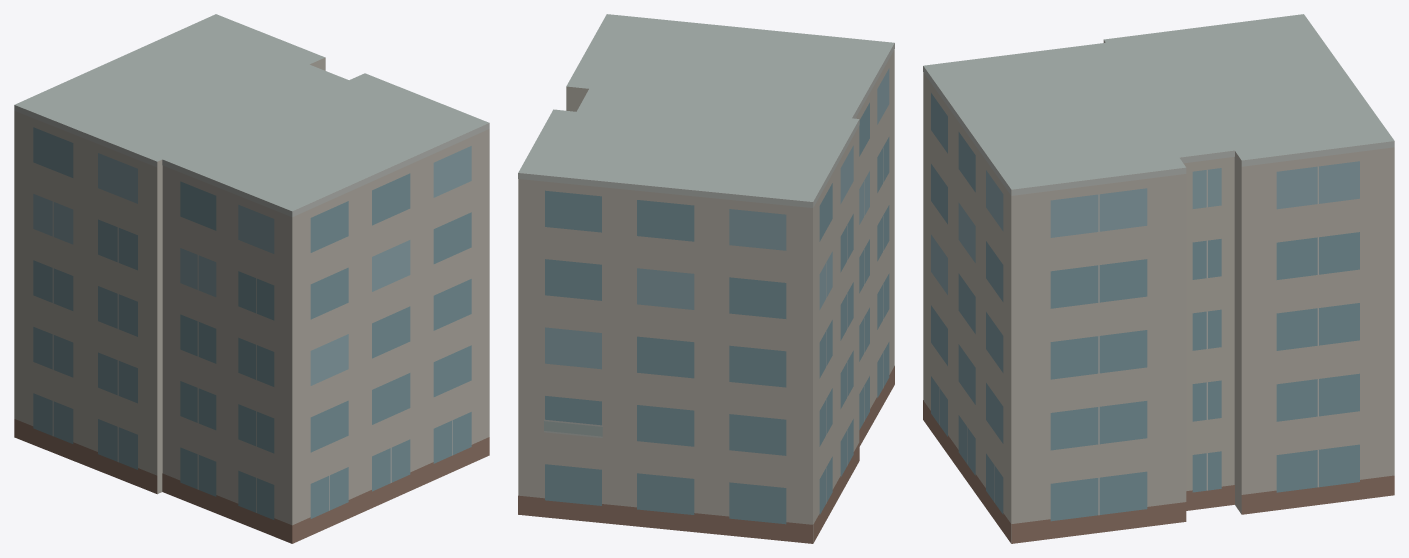
File: survey-upis-32623921.glb
The picture shows the model from 3 angles, left to right: view 1: azimuth 30°, elevation 25°; view 2: azimuth 150°, elevation 25°; view 3: azimuth 270°, elevation 25°; orthographic projection. The views are drawn at different scales.
Visible parts, largest first — view 1: survey-upis-32623921.tmp; view 2: survey-upis-32623921.tmp; view 3: survey-upis-32623921.tmp.
Boxes of the visible parts, left/top/right/bottom form: survey-upis-32623921.tmp: left=14, top=14, right=489, bottom=543; survey-upis-32623921.tmp: left=518, top=14, right=894, bottom=543; survey-upis-32623921.tmp: left=923, top=14, right=1394, bottom=543.
Size of the model in its own units: 14.72 by 13.83 by 16.7.
